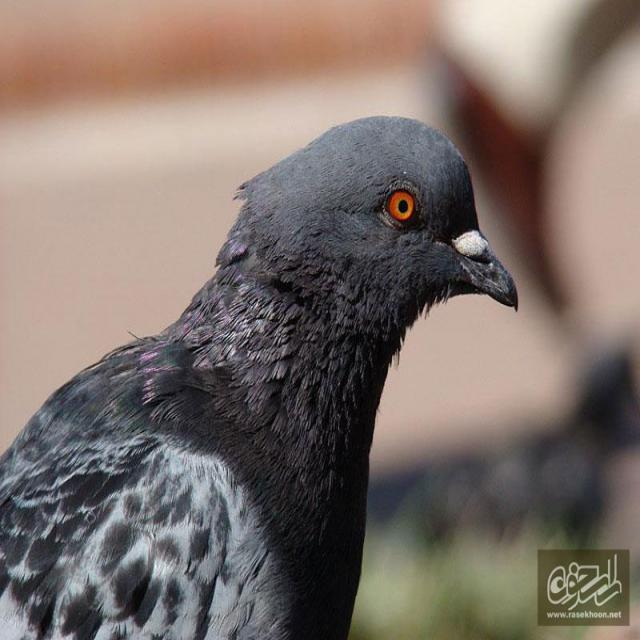bird: (1, 84, 524, 640)
